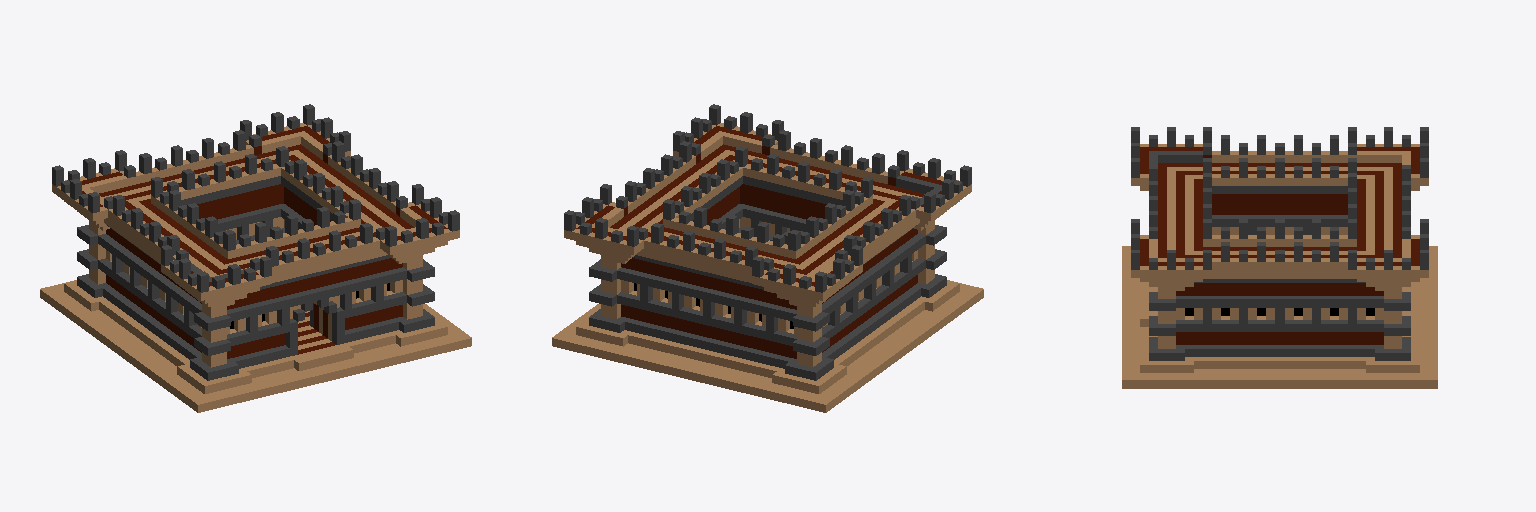
3 renders of one model, left to right at view 1: azimuth 30°, elevation 25°; view 2: azimuth 150°, elevation 25°; view 3: azimuth 270°, elevation 25°, orthographic.
Parts seen in each view (by area): view 1: group; view 2: group; view 3: group.
Boxes of the visible parts, x1,y1,x2,y2 form: group: [40, 104, 471, 412]; group: [552, 104, 983, 412]; group: [1122, 127, 1437, 388].
Size of the model in its own units: 3.5 by 1.6 by 3.5.
1 materials, 1 textured.